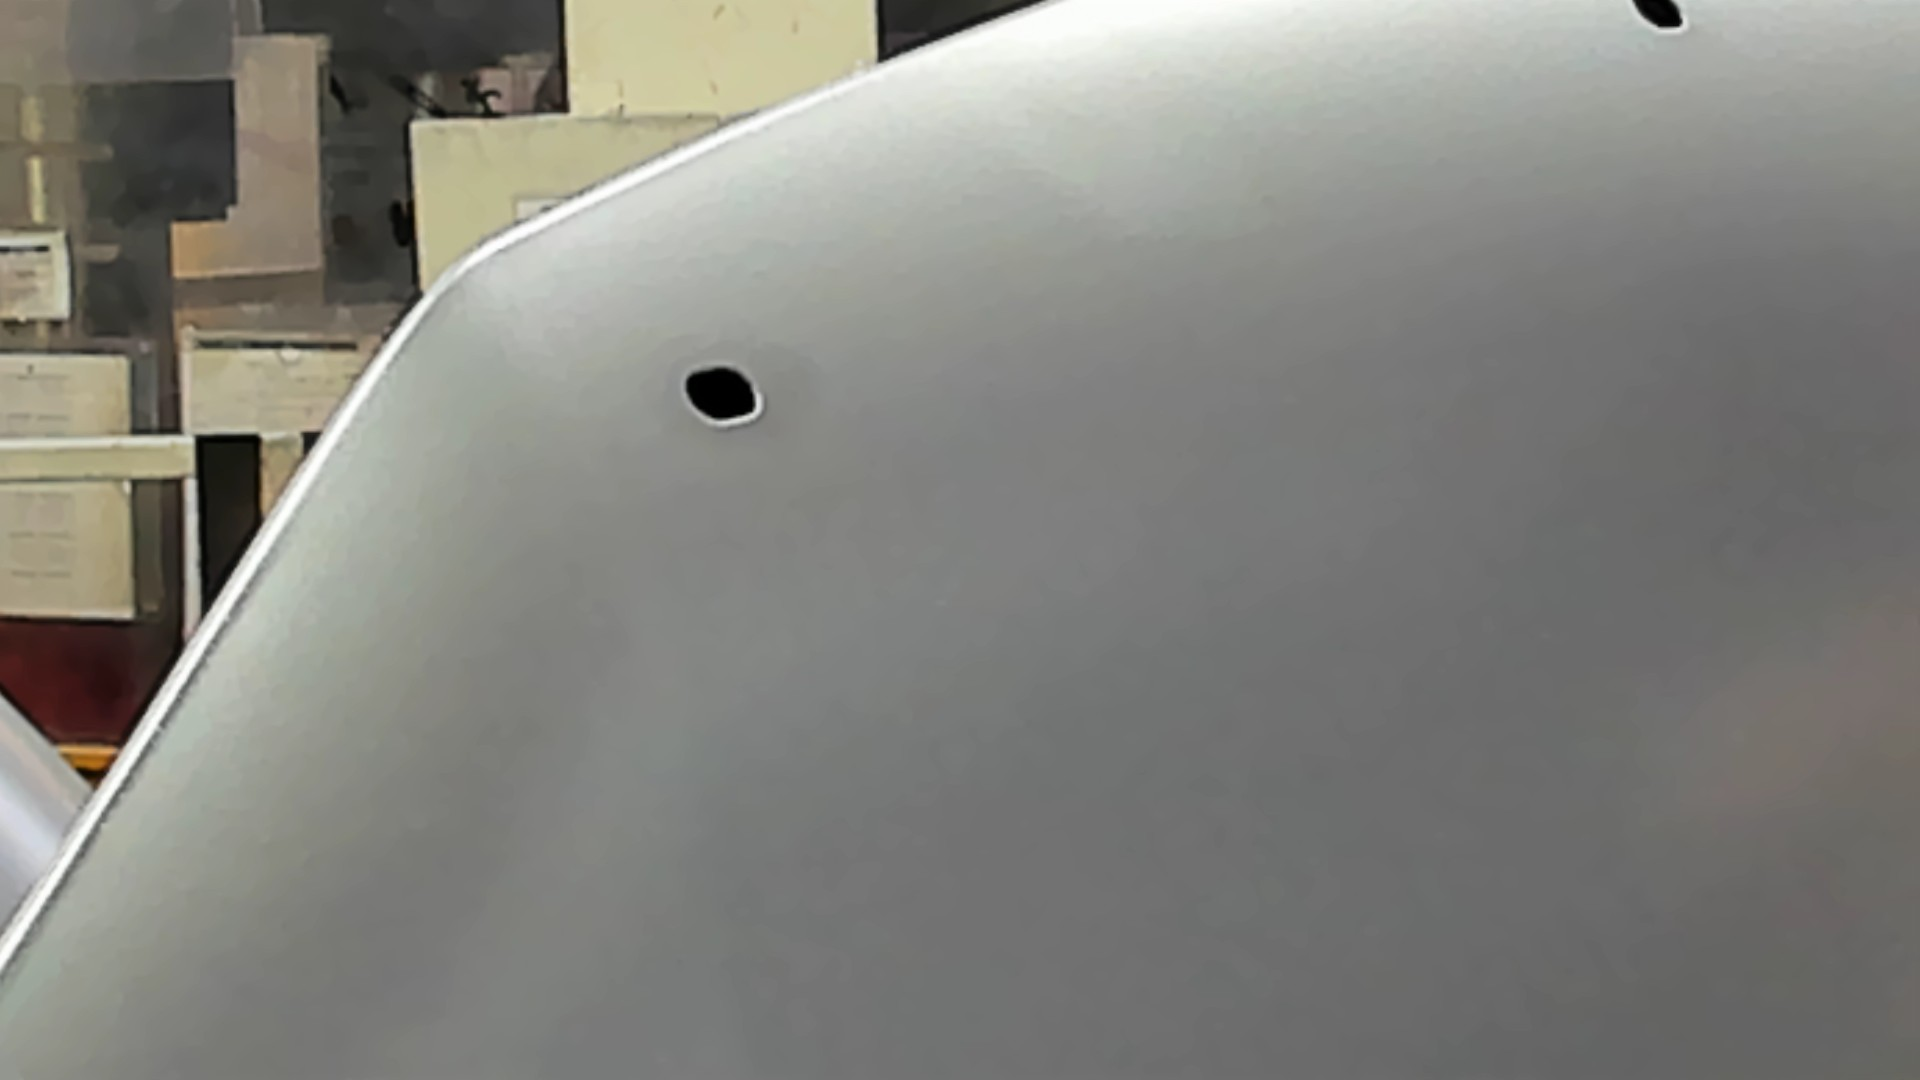amorfo: (676, 357, 769, 431), (1629, 1, 1688, 36)
